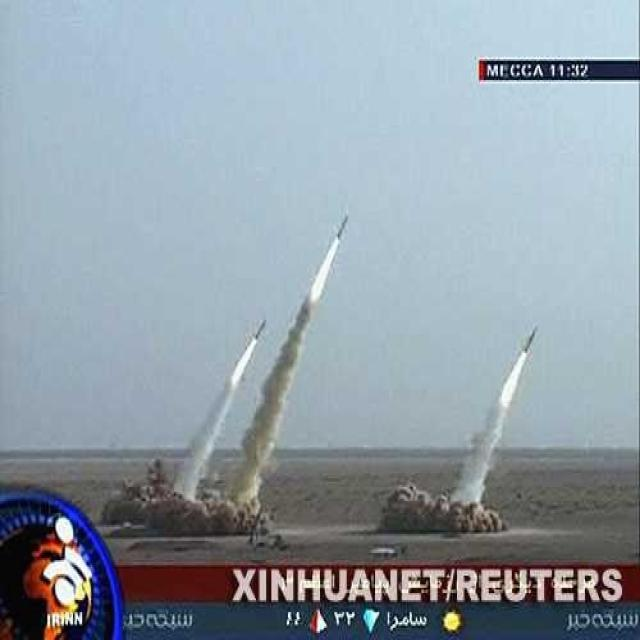missile: (519, 325, 540, 353), (252, 316, 268, 347), (334, 214, 349, 244)
